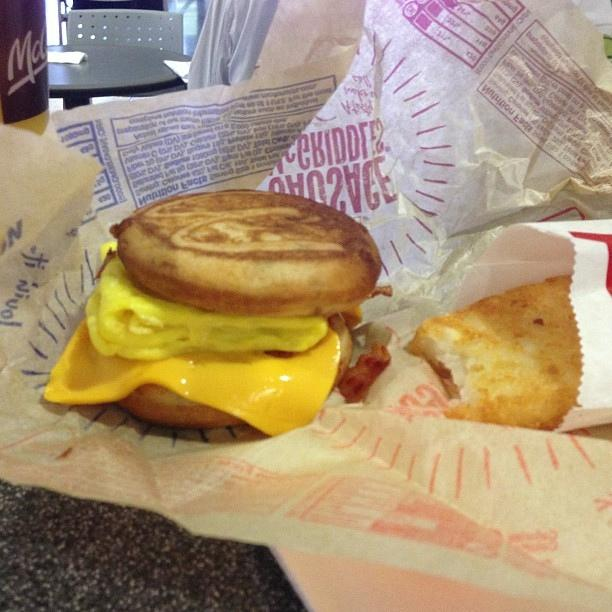potato: (402, 274, 583, 431)
